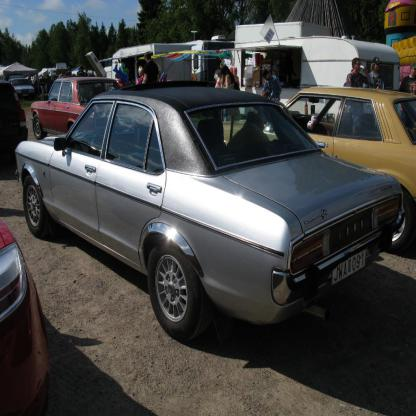Car: (0, 51, 416, 416)
